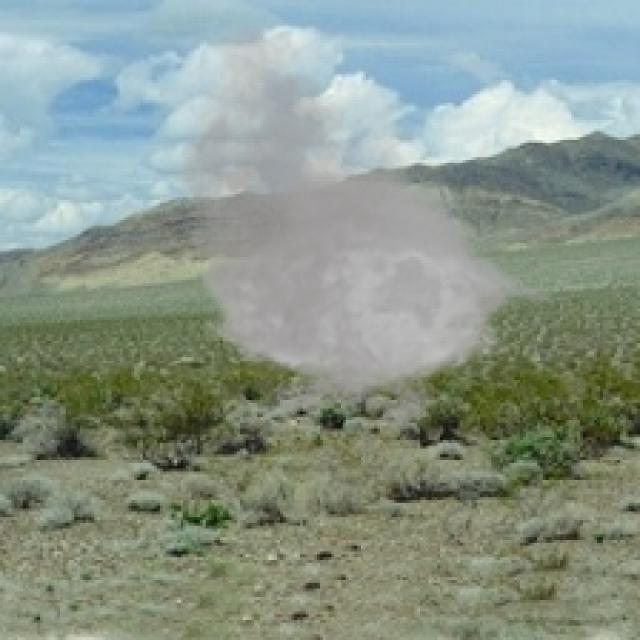Smoke: (157, 17, 569, 443)
